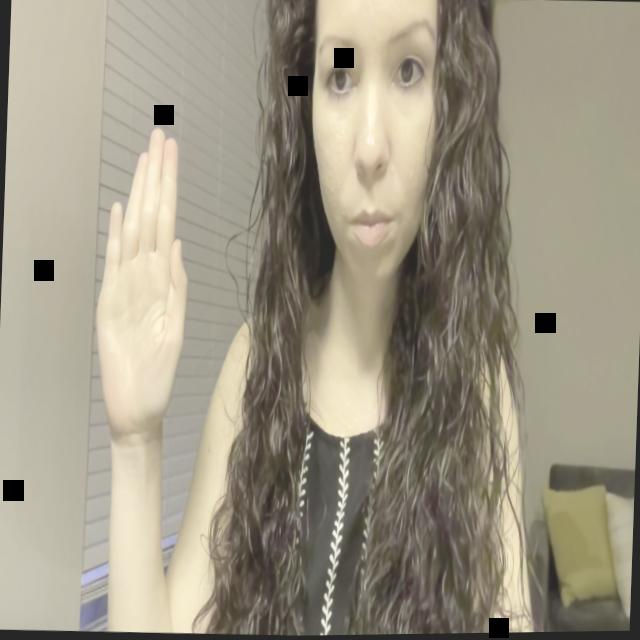Paper: (85, 118, 192, 447)
